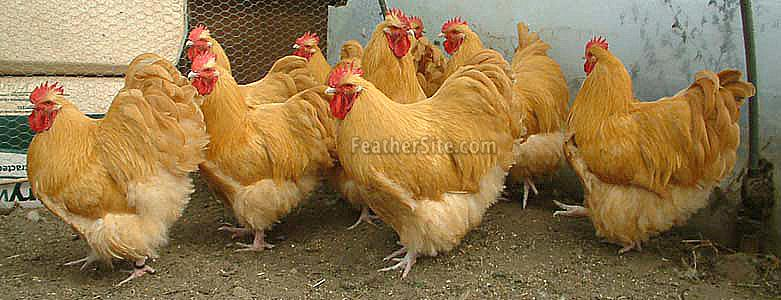buff: (15, 80, 81, 146), (319, 72, 379, 113), (179, 60, 234, 97), (375, 11, 409, 54), (438, 17, 477, 52), (575, 36, 611, 66), (185, 23, 211, 56), (293, 31, 319, 64)
